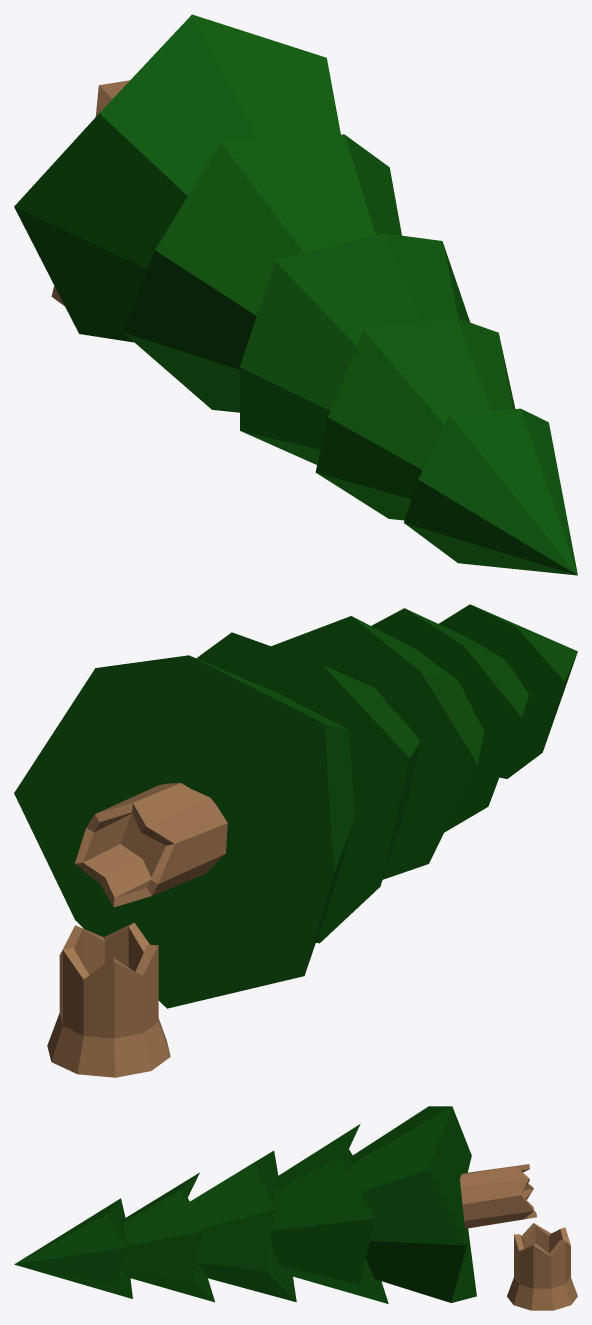
File: Fir_2 Broken.fbx
3 views of the same model, one above another, from view 1: azimuth 30°, elevation 25°; view 2: azimuth 150°, elevation 25°; view 3: azimuth 270°, elevation 25° (orthographic). The views are drawn at different scales.
Visible parts, largest first — view 1: Fir2Broken_mesh; view 2: Fir2Broken_mesh; view 3: Fir2Broken_mesh.
Part boxes in pixels (x1,y1,x2,y2): Fir2Broken_mesh: (14,14,577,575); Fir2Broken_mesh: (14,604,577,1077); Fir2Broken_mesh: (14,1106,577,1310).
Bounding box in the file's own units: 415 × 419 × 1109.
